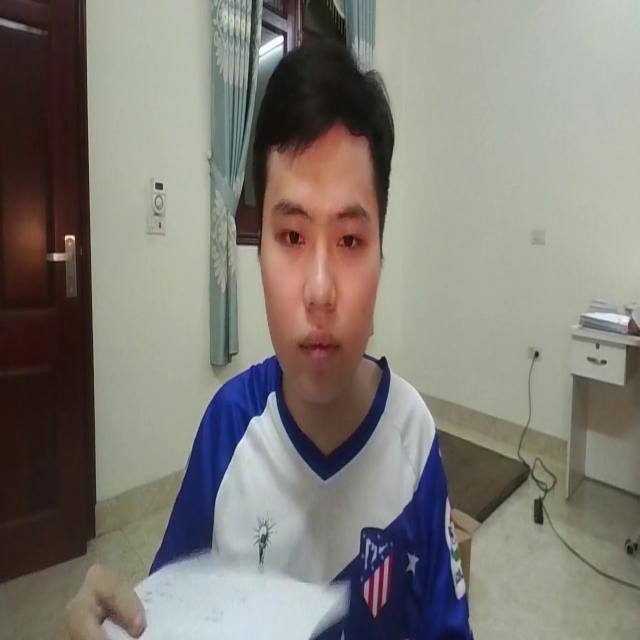book: (74, 528, 356, 640)
student: (149, 41, 481, 640)
